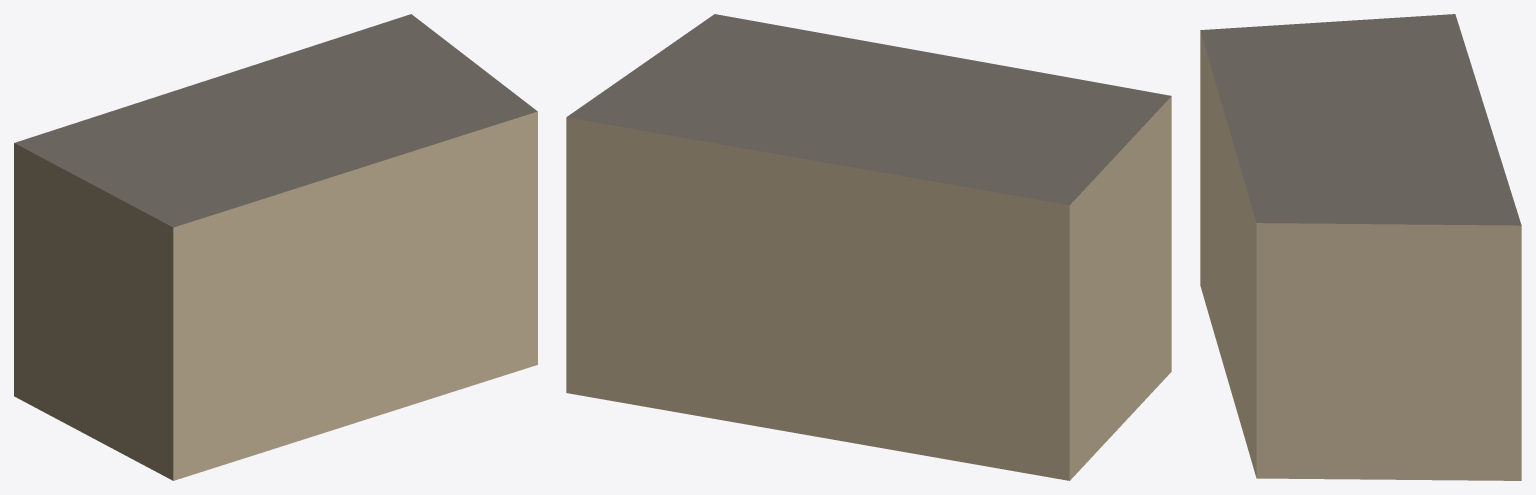
The picture shows the model from 3 angles, left to right: view 1: azimuth 30°, elevation 25°; view 2: azimuth 150°, elevation 25°; view 3: azimuth 270°, elevation 25°; orthographic projection. The views are drawn at different scales.
Visible parts, largest first — view 1: HP-w311064999; view 2: HP-w311064999; view 3: HP-w311064999.
Boxes of the visible parts, x1,y1,x2,y2 form: HP-w311064999: [14, 14, 537, 480]; HP-w311064999: [566, 14, 1171, 480]; HP-w311064999: [1200, 14, 1521, 480].
Bounding box in the file's own units: 35.17 × 19.8 × 22.57.
